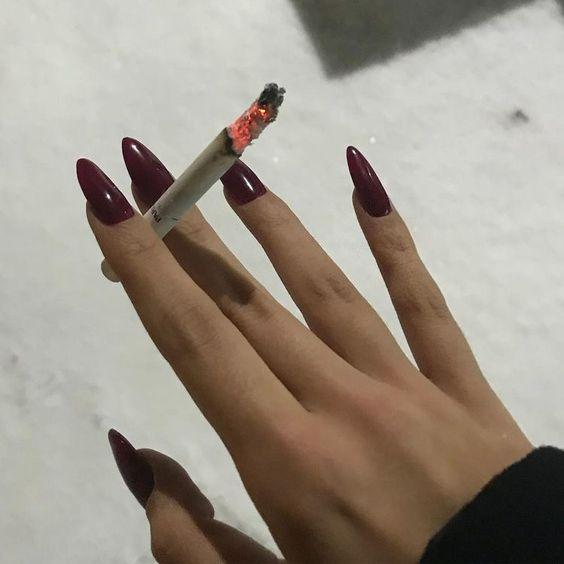cigarette: (101, 81, 284, 282)
